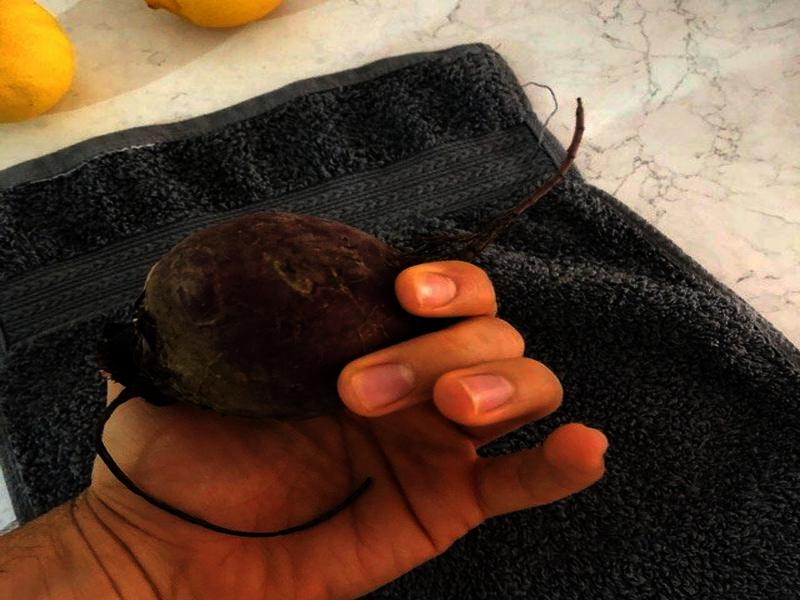Beet: (99, 98, 582, 537)
